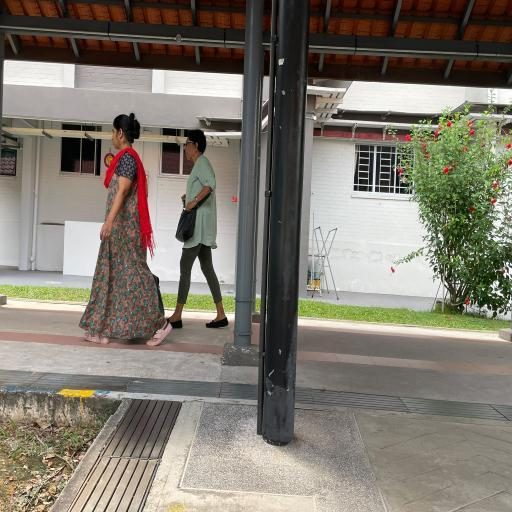person_left: (102, 113, 166, 343), (174, 124, 228, 338)
